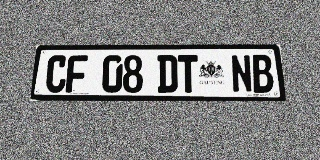0: (102, 55, 123, 93)
8: (122, 55, 143, 93)
B: (251, 55, 274, 93)
C: (45, 55, 68, 93)
D: (157, 55, 178, 93)
F: (65, 55, 88, 93)
N: (230, 55, 253, 93)
T: (178, 55, 199, 93)
